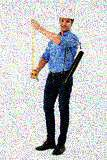helmet: (58, 5, 75, 31)
